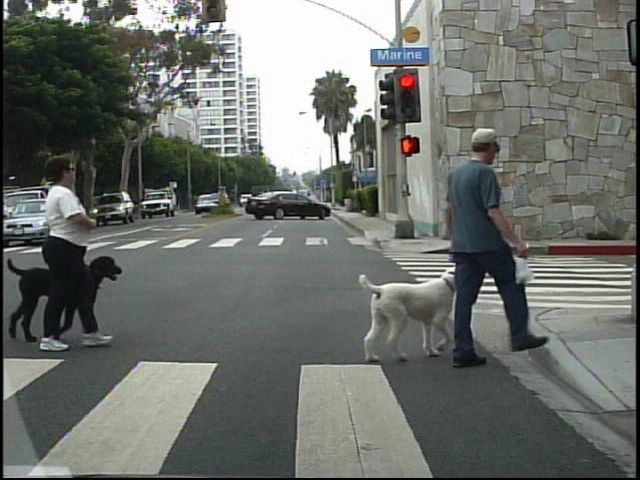person: (426, 118, 529, 372), (25, 152, 93, 356)
